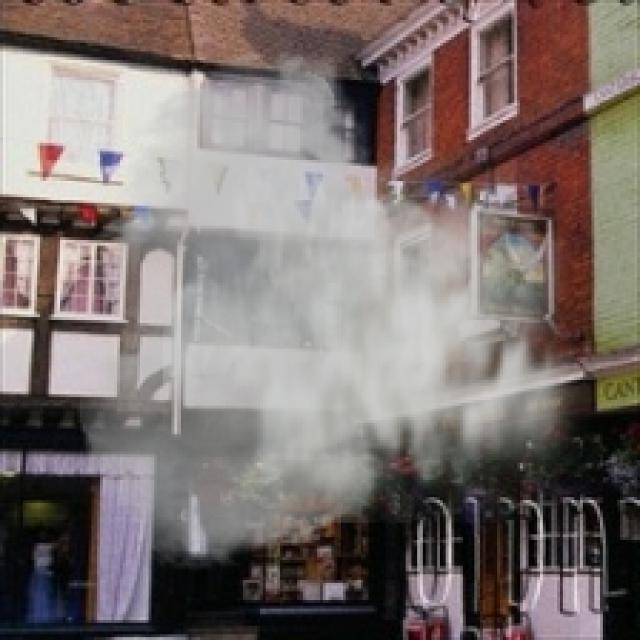smoke: (74, 46, 600, 574)
